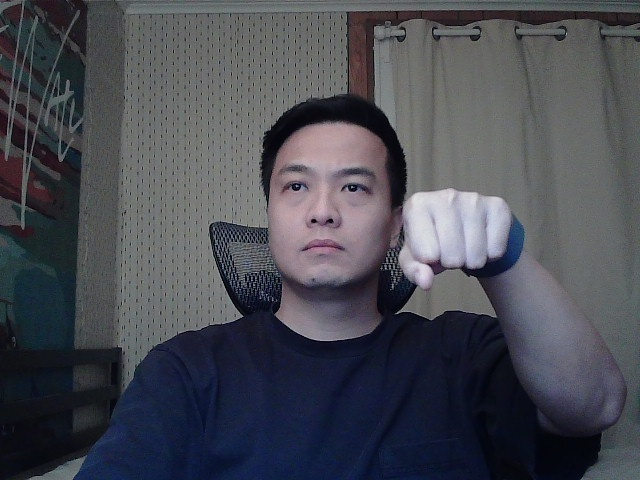Yes: (376, 164, 550, 302)
